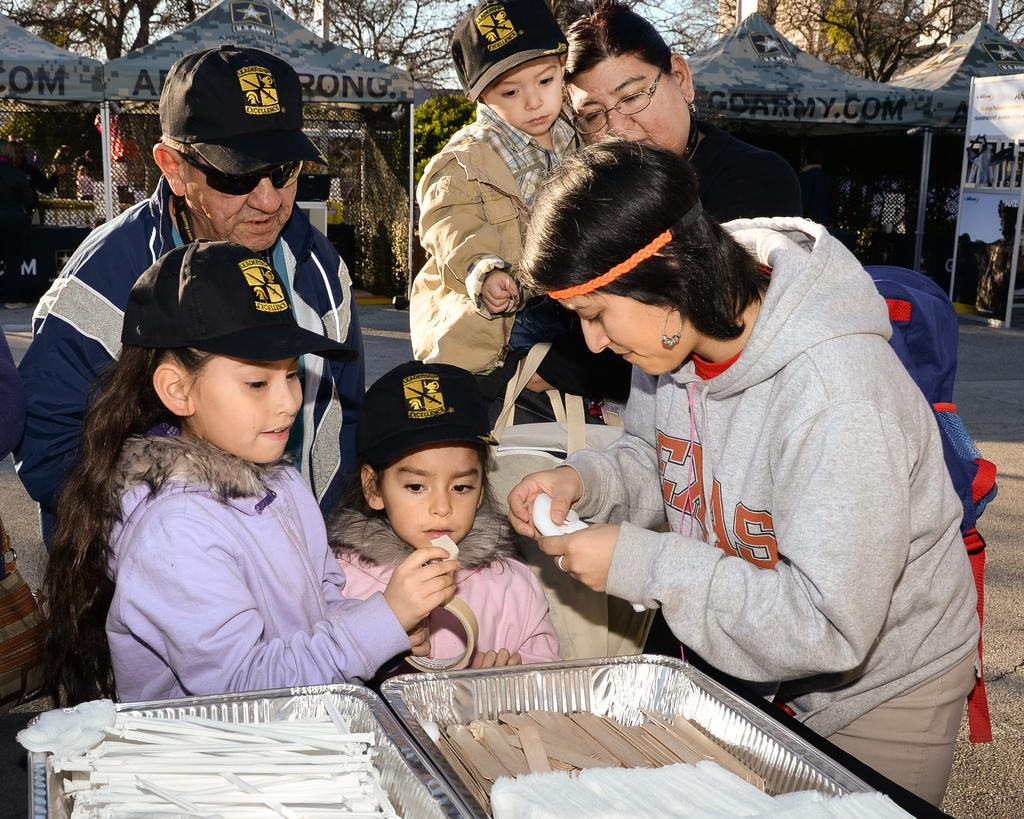Hat: (120, 238, 352, 353), (159, 42, 322, 178), (356, 356, 495, 470), (446, 0, 569, 103)
